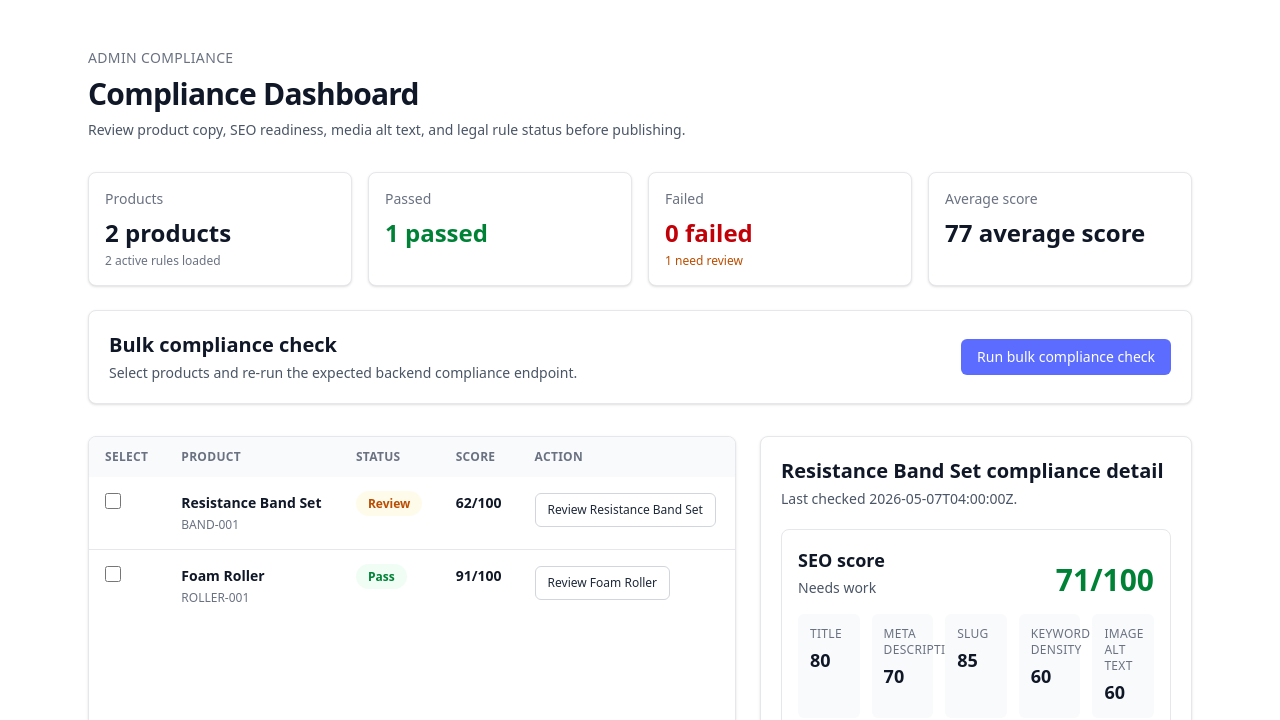
ComplianceDashboard › can deselect products and surfaces adapter errors
The image size is (1280, 720).
Click the checkbox named "select resistance band set".
click(113, 501)  # box [105, 493, 121, 509]
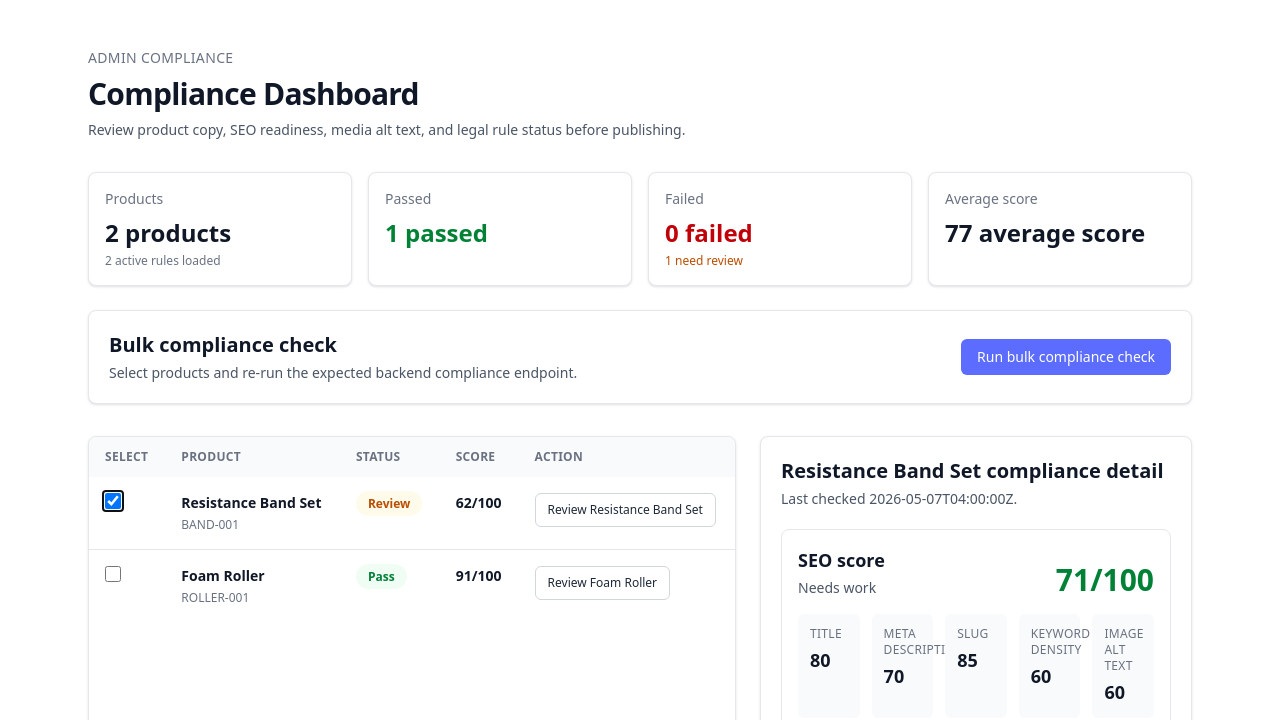
Click the checkbox named "select resistance band set".
click(113, 501)  # box [105, 493, 121, 509]
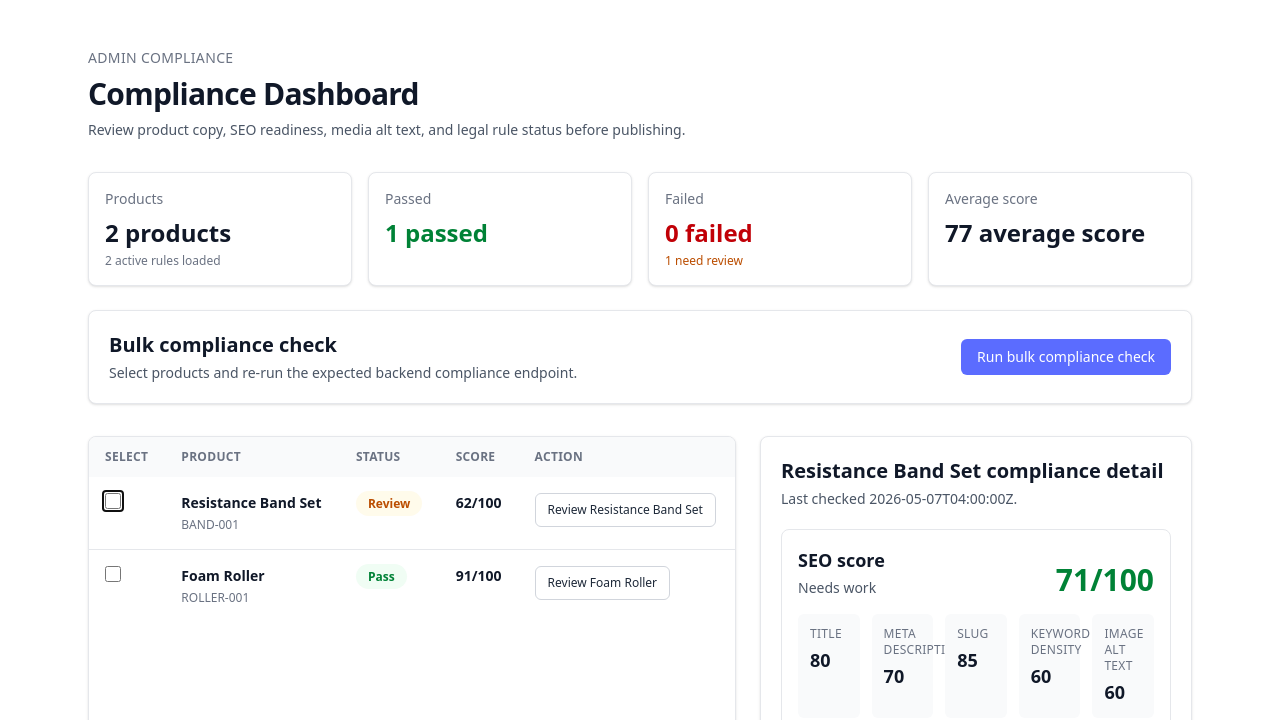
Click the button "Run bulk compliance check".
click(1066, 357)  # box [961, 339, 1171, 375]
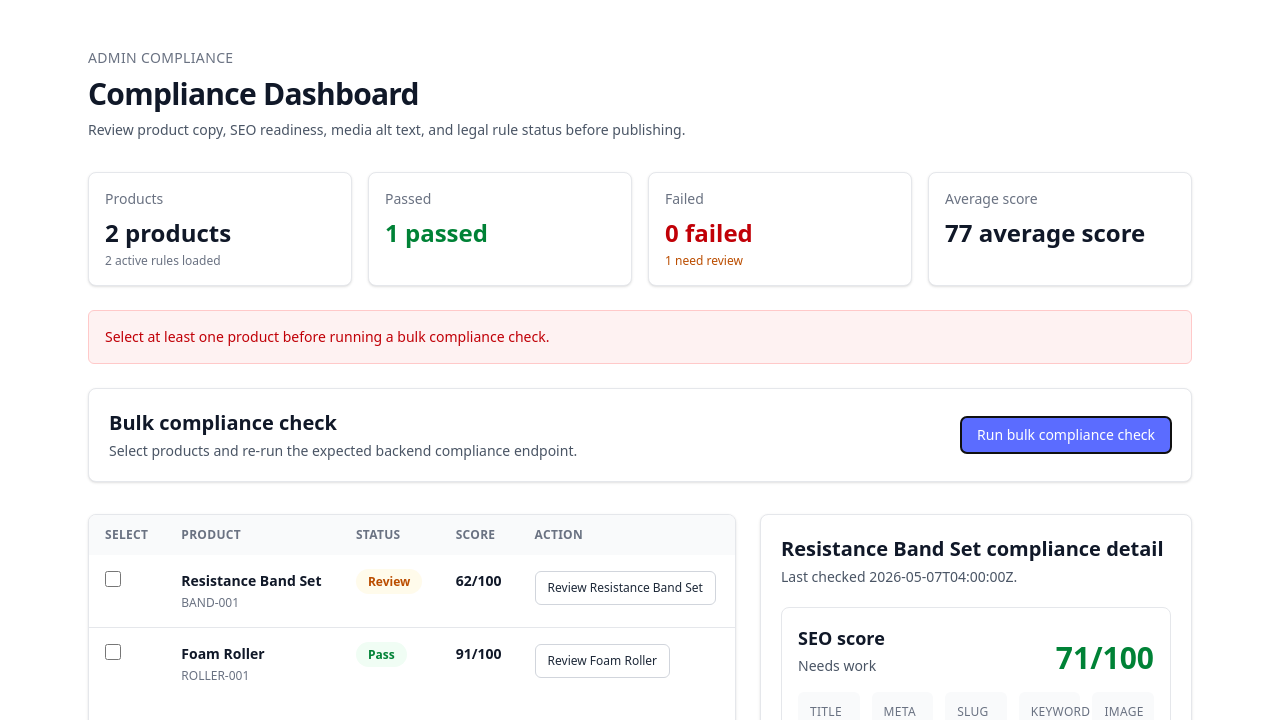
Expected: the message shows "Select at least one product", [105, 327, 549, 346]
Click the checkbox named "select resistance band set".
click(113, 579)  # box [105, 571, 121, 587]
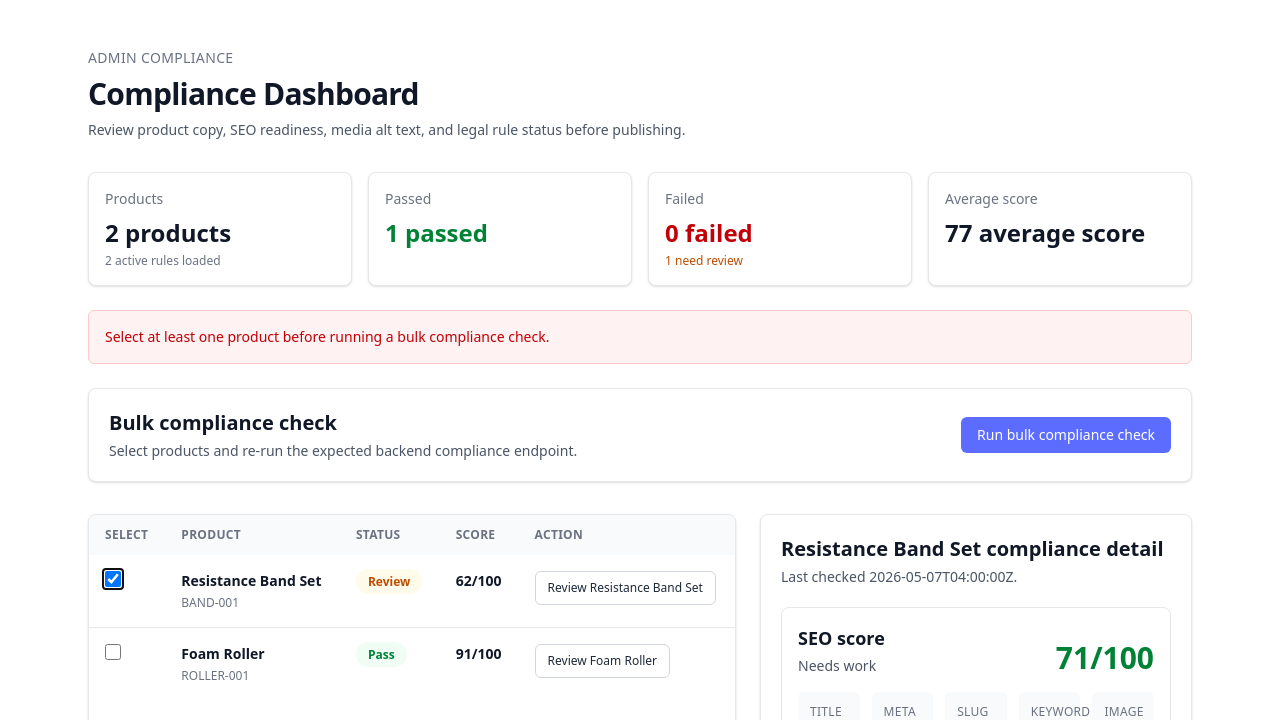
Click the button "Run bulk compliance check".
click(1066, 435)  # box [961, 417, 1171, 453]
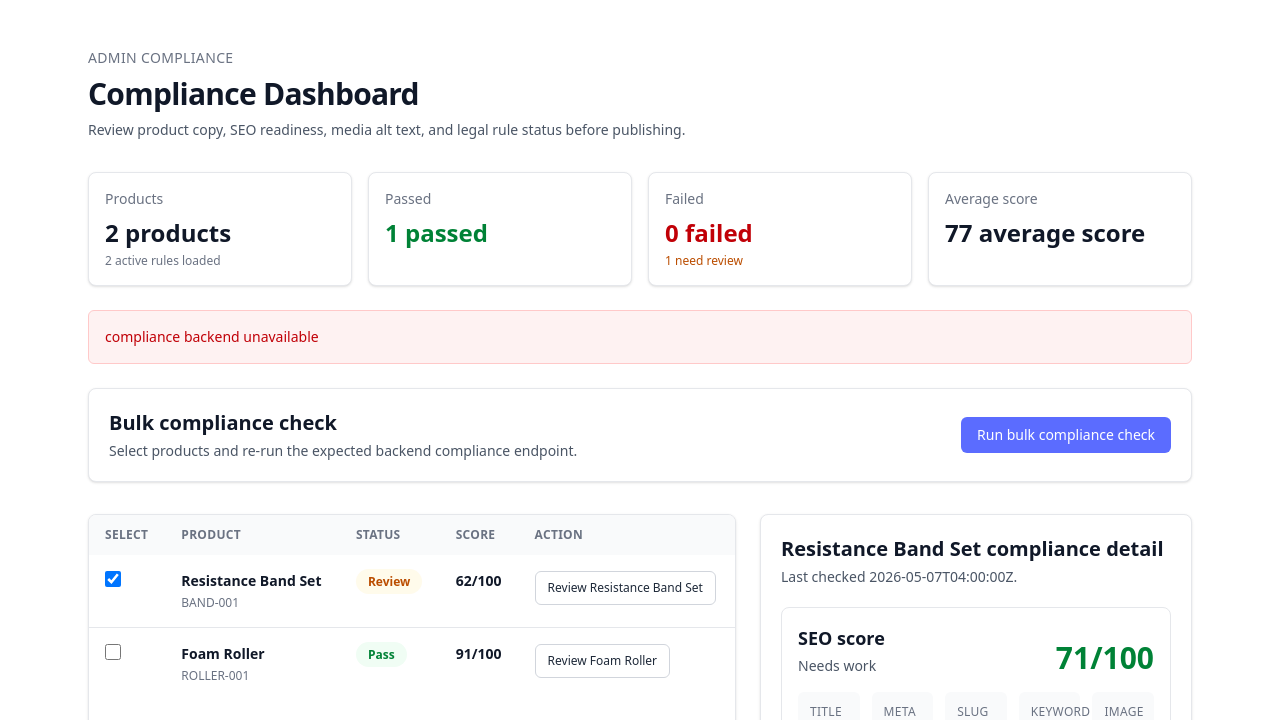
Expected: the text "1 need review" is shown, [665, 252, 743, 269]
Expected: the message reads "compliance backend unavailable", [105, 327, 319, 346]
